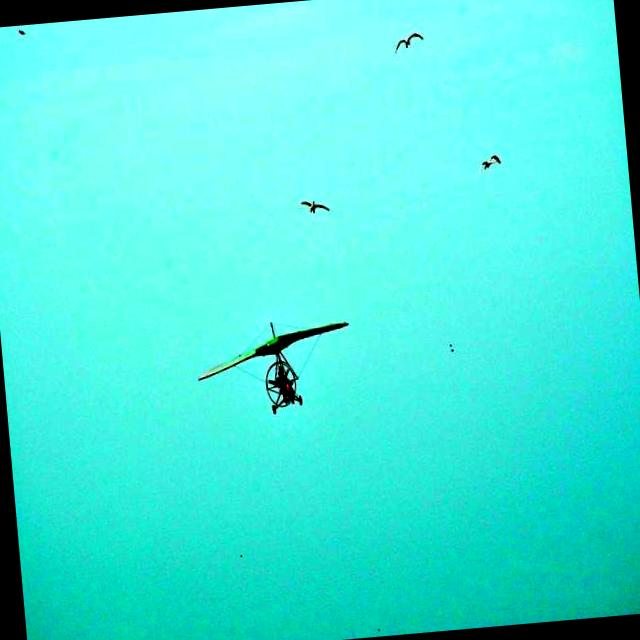bird: (392, 24, 426, 58), (475, 149, 506, 178), (299, 190, 331, 218)
